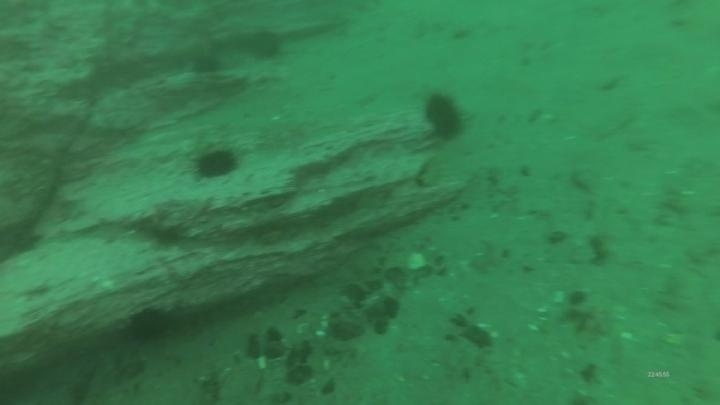echinus: (421, 90, 469, 144), (190, 143, 241, 183), (125, 305, 173, 346), (243, 27, 286, 64)
